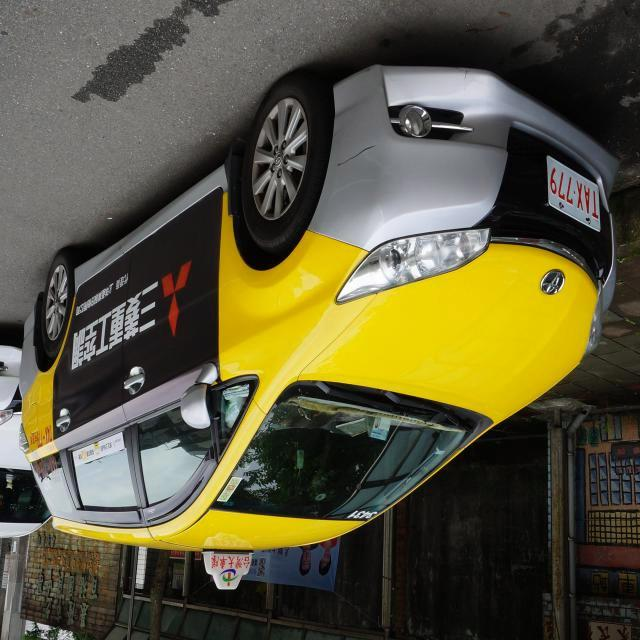taxi: (11, 55, 633, 593)
